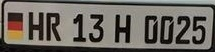character: (112, 12, 131, 44), (28, 11, 44, 42), (88, 13, 104, 43), (175, 15, 191, 45), (159, 15, 175, 44), (72, 13, 87, 43), (143, 14, 158, 44), (192, 15, 207, 45), (46, 12, 61, 41)
